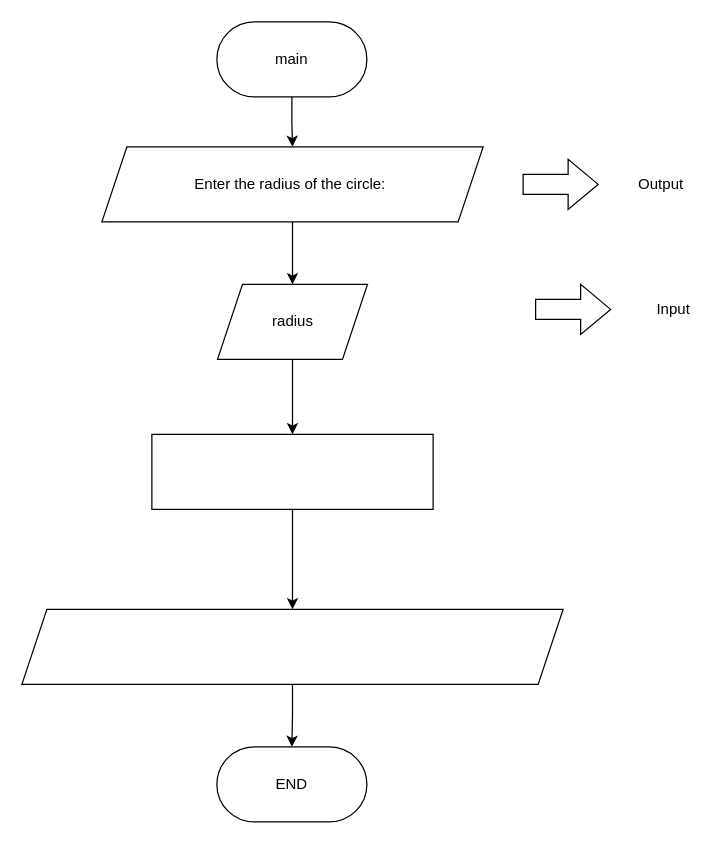
The diagram is 726 pixels wide and 844 high, and some of its shapes have lost their labels. Each missing label, with the box of its shape:
area = 3.14159 * (radius * radius): (151, 433, 433, 509)
The are of a circule with radius `radius` is `area`: (21, 608, 563, 684)
